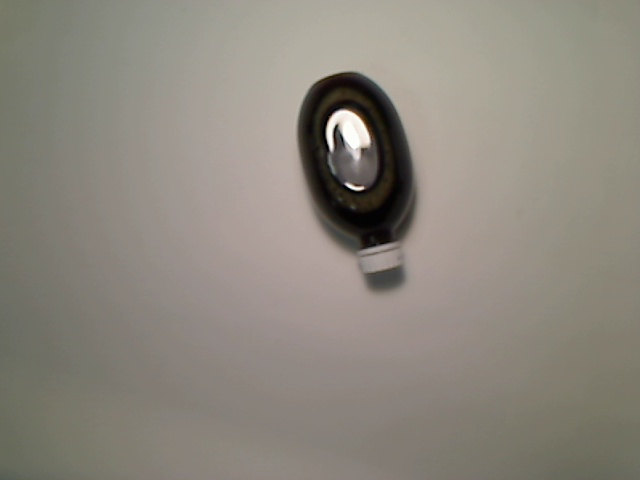plast_bottle: (295, 70, 419, 278)
